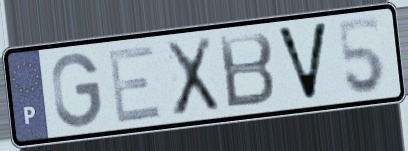5: (335, 12, 389, 99)
B: (216, 29, 278, 112)
E: (105, 41, 165, 126)
G: (50, 50, 104, 131)
V: (272, 20, 331, 105)
X: (162, 33, 222, 120)
